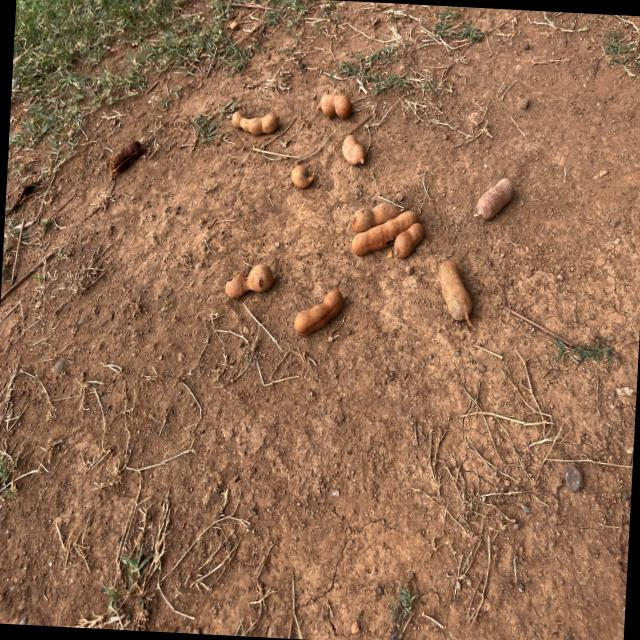tamarind: (352, 207, 418, 258), (295, 284, 345, 339), (437, 257, 474, 323), (225, 264, 275, 308), (476, 177, 516, 222), (352, 203, 402, 236), (392, 221, 426, 259), (232, 112, 280, 136), (110, 139, 142, 174), (320, 93, 352, 119), (342, 135, 366, 165), (292, 163, 316, 190)
